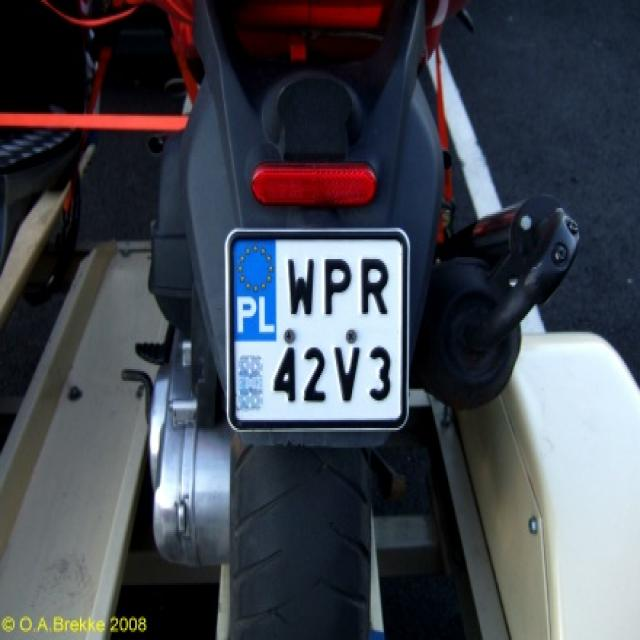pl_license_plate: (231, 238, 399, 418)
